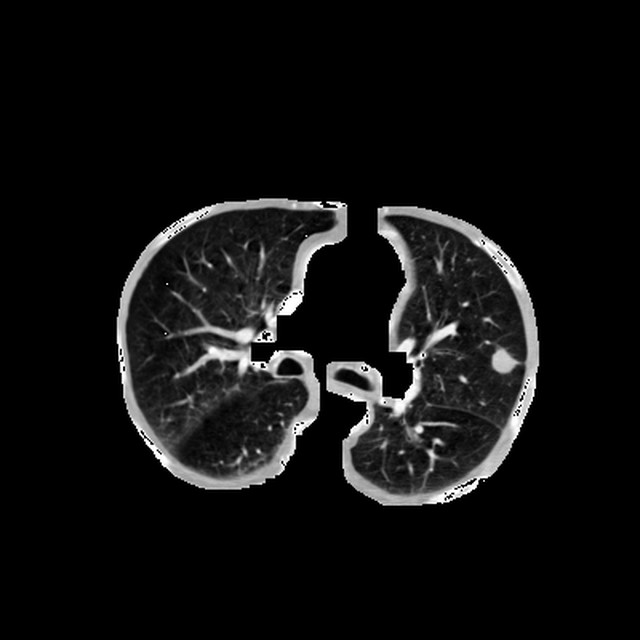PN: (490, 349, 515, 374)
